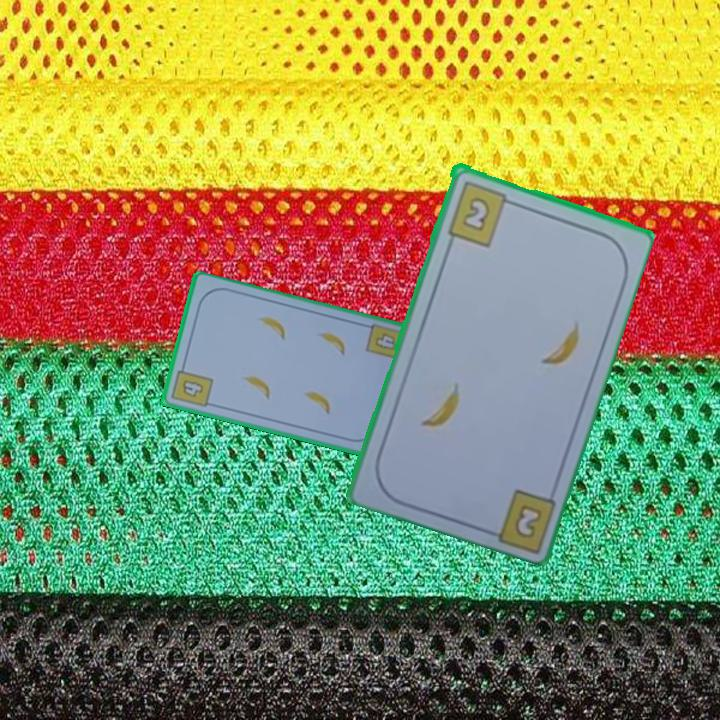2b: (444, 177, 518, 249), (513, 503, 542, 538)
4b: (168, 360, 216, 411), (371, 330, 398, 354)
